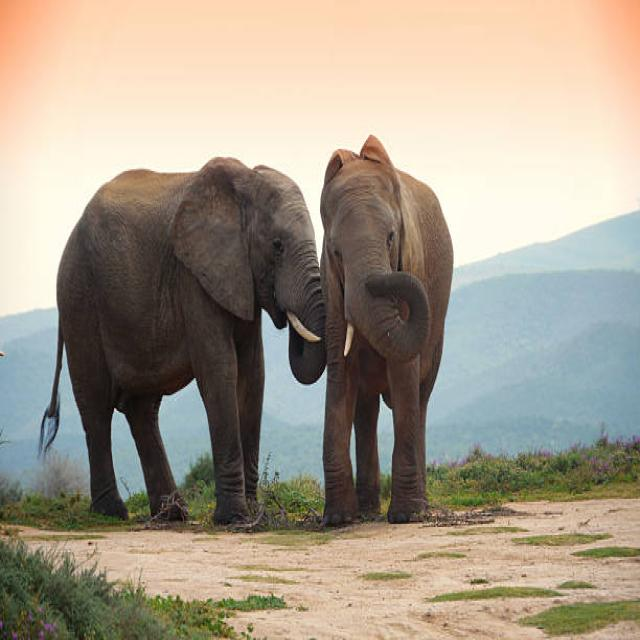Elephant: (36, 136, 321, 554), (299, 146, 483, 558)
